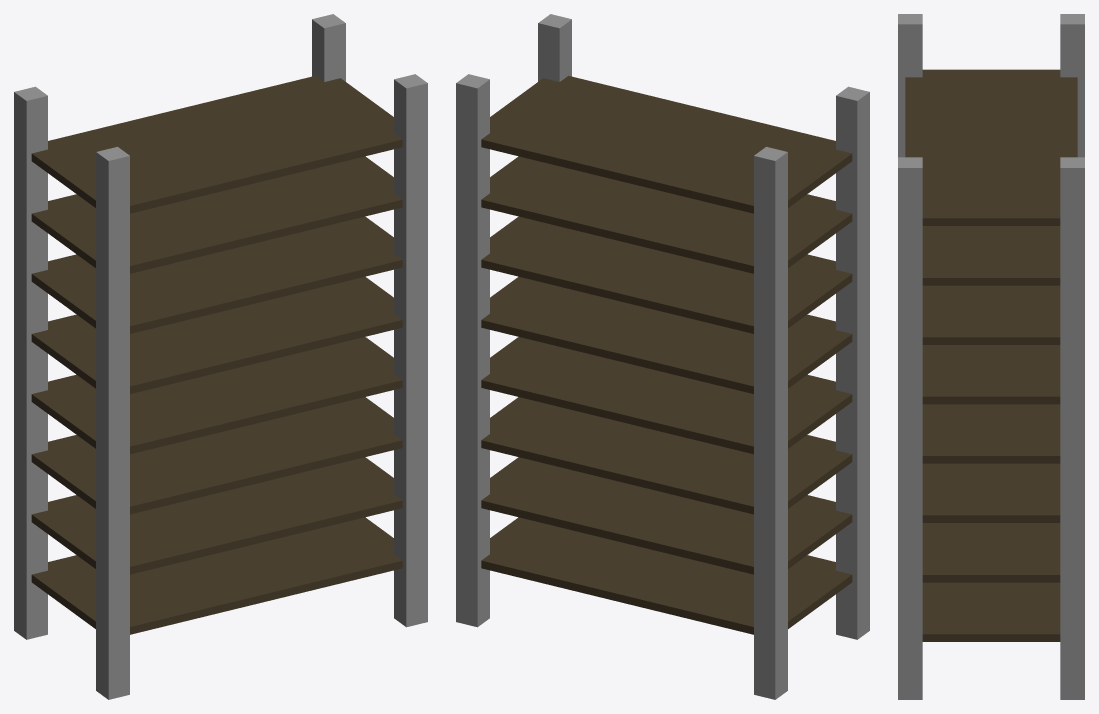
Rendered from Shelf_Tall.fbx.
The picture shows the model from 3 angles, left to right: view 1: azimuth 30°, elevation 25°; view 2: azimuth 150°, elevation 25°; view 3: azimuth 270°, elevation 25°; orthographic projection.
Parts seen in each view (by area): view 1: Shelves_geo, Tall_Shelf_Legs_geo; view 2: Shelves_geo, Tall_Shelf_Legs_geo; view 3: Shelves_geo, Tall_Shelf_Legs_geo.
Boxes of the visible parts, x1,y1,x2,y2 form: Shelves_geo: (31,75,402,634); Tall_Shelf_Legs_geo: (14,14,427,699); Shelves_geo: (481,75,852,634); Tall_Shelf_Legs_geo: (456,14,869,699); Shelves_geo: (905,69,1077,641); Tall_Shelf_Legs_geo: (898,14,1084,699).
Bounding box in the file's own units: 233 × 376 × 120.
